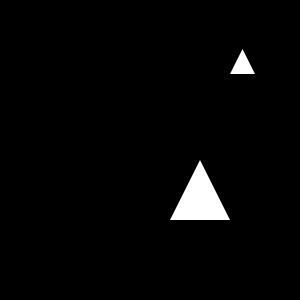triangle: (170, 160, 230, 220), (230, 49, 255, 74)
